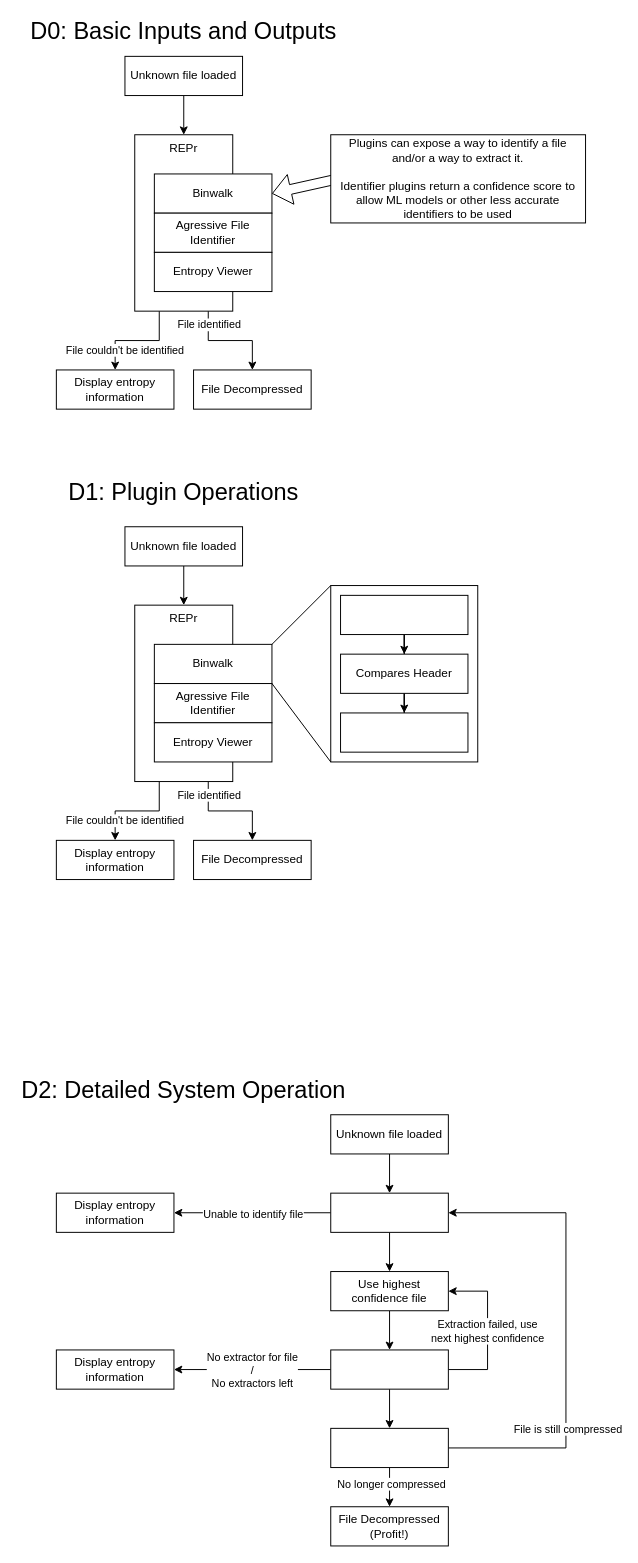
Image size: 638x1563. Some labels were removed from this diagram. The shapes that lost their labels are listed below. From the top down, each one's centre as x and y in pixels, then its label:
At point (404, 614): "File Provided".
At point (404, 732): "Report Identification Confidence".
At point (389, 1212): "Loop over loaded identifiers".
At point (389, 1369): "Extract using first availible extractor".
At point (389, 1447): "Identify newly created file".
